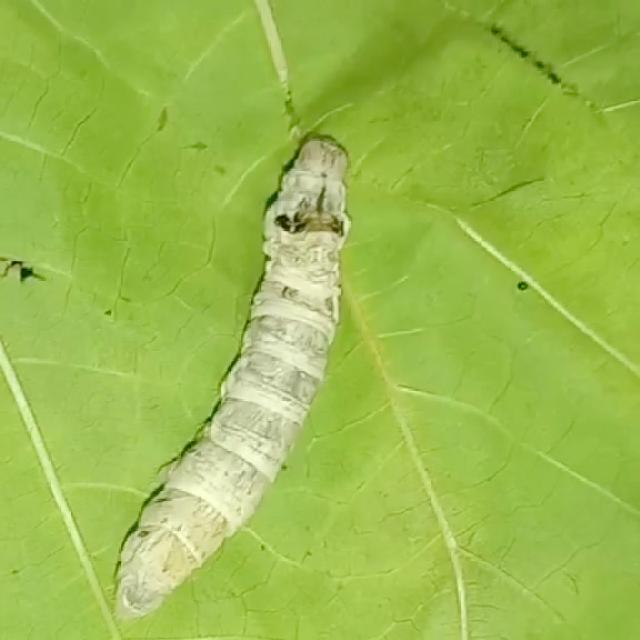Grasserie: (92, 126, 382, 631)
